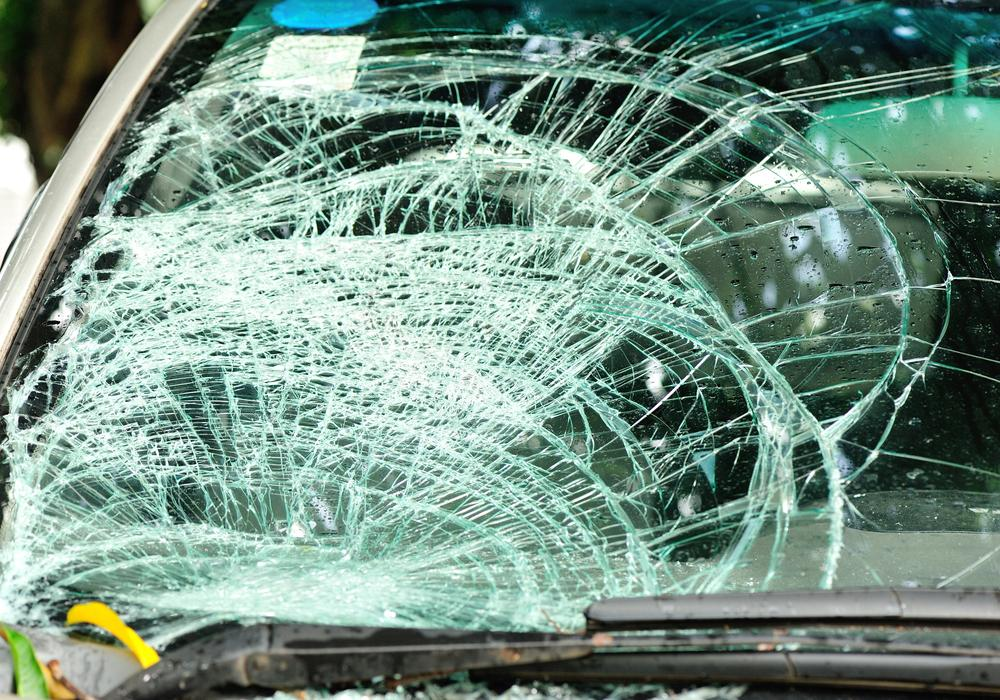glass shatter: (0, 0, 1000, 644)
